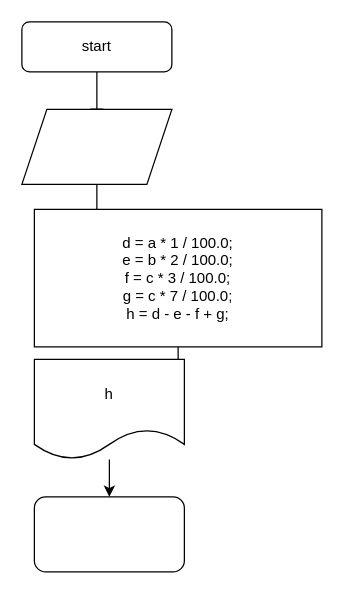
This 344x594 diagram has some shape labels left out. Here are the shapes that lost their labels. From the top down, the centre of each, then its label:
At (x=96, y=146): "a = 1234; b=2345; c = 3456;".
At (x=108, y=534): "end".
